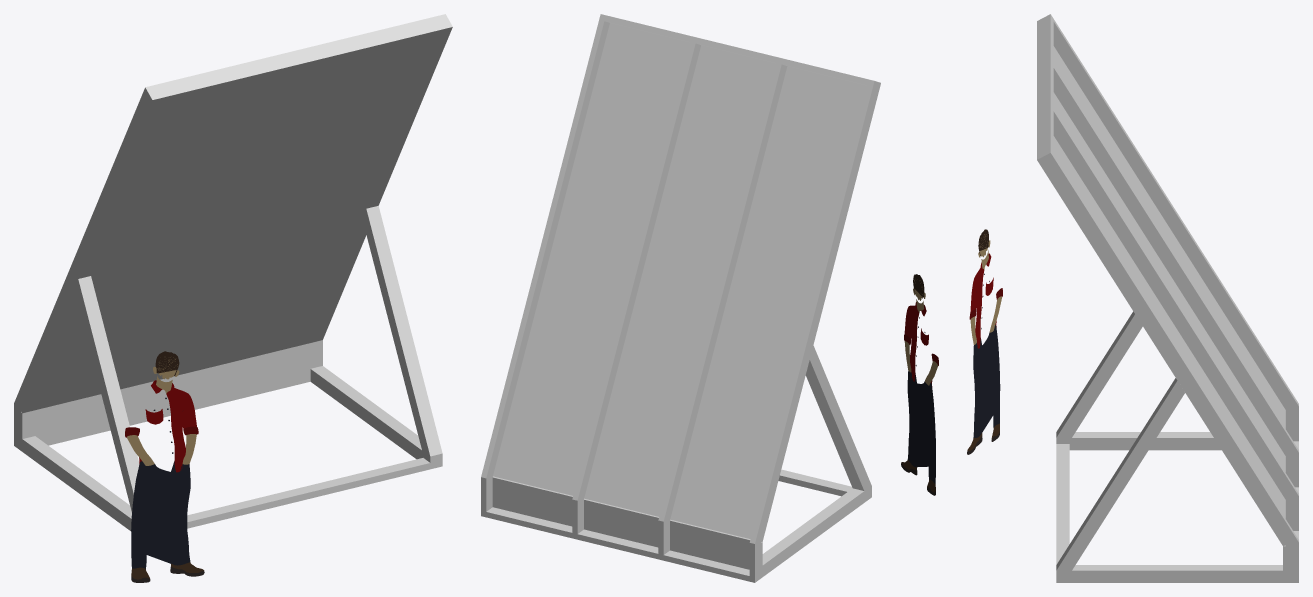
Rendered from board.dae.
The picture shows the model from 3 angles, left to right: view 1: azimuth 30°, elevation 25°; view 2: azimuth 150°, elevation 25°; view 3: azimuth 270°, elevation 25°; orthographic projection. The views are drawn at different scales.
Visible parts, largest first — view 1: SketchUp, Simple_Template_-_Feet_and_Inches (×2); view 2: SketchUp, Simple_Template_-_Feet_and_Inches (×2); view 3: SketchUp, Simple_Template_-_Feet_and_Inches (×2).
Part boxes in pixels (left/top/right/bottom): SketchUp: left=14, top=14, right=452, bottom=530; Simple_Template_-_Feet_and_Inches (×2): left=131, top=380, right=196, bottom=568; SketchUp: left=481, top=14, right=880, bottom=582; Simple_Template_-_Feet_and_Inches (×2): left=904, top=302, right=935, bottom=483; SketchUp: left=1037, top=14, right=1298, bottom=582; Simple_Template_-_Feet_and_Inches (×2): left=970, top=253, right=1000, bottom=437.
Bounding box in the file's own units: 111 × 97.15 × 143.
